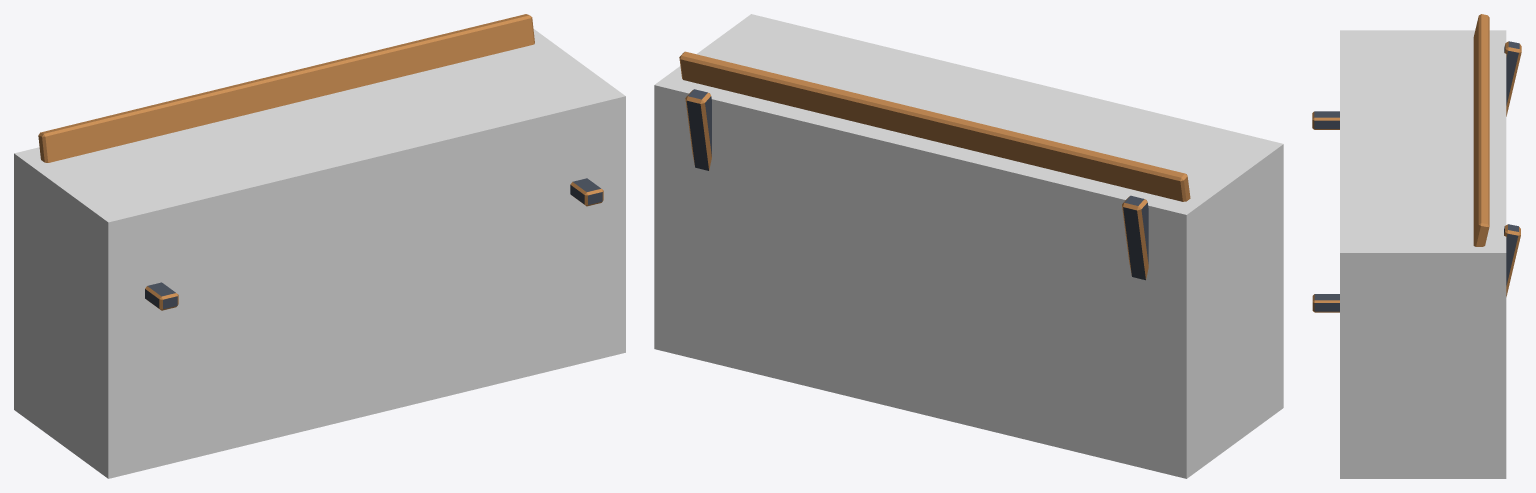
File: prop_bench_a.glb
3 views of the same model, side by side, from view 1: azimuth 30°, elevation 25°; view 2: azimuth 150°, elevation 25°; view 3: azimuth 270°, elevation 25° (orthographic). The views are drawn at different scales.
Parts seen in each view (by area): view 1: COL_prop_bench_a_1, prop_bench_a; view 2: COL_prop_bench_a_1, prop_bench_a; view 3: COL_prop_bench_a_1, prop_bench_a.
Part boxes in pixels (x1,y1,x2,y2): COL_prop_bench_a_1: [14, 29, 625, 478]; prop_bench_a: [38, 14, 603, 310]; COL_prop_bench_a_1: [654, 14, 1283, 478]; prop_bench_a: [679, 51, 1190, 280]; COL_prop_bench_a_1: [1340, 30, 1506, 478]; prop_bench_a: [1312, 14, 1521, 312].
Size of the model in its own units: 1.9 by 0.9927 by 0.7555.
